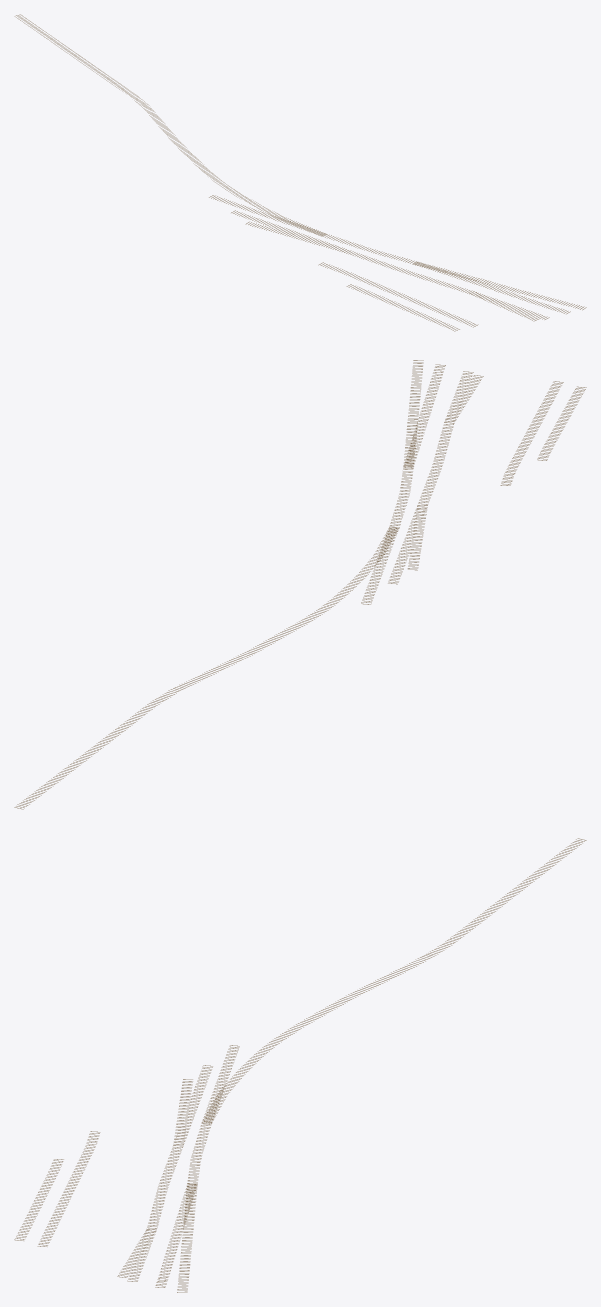
The model's file is c_1632_17825_rail_sleeper.glb.
3 renders of one model, top to bottom at view 1: azimuth 30°, elevation 25°; view 2: azimuth 150°, elevation 25°; view 3: azimuth 330°, elevation 25°, orthographic. The views are drawn at different scales.
Visible parts, largest first — view 1: geometry_0; view 2: geometry_0; view 3: geometry_0.
Boxes of the visible parts, x1=… form: geometry_0: x1=14, y1=14, x2=586, y2=331; geometry_0: x1=14, y1=360, x2=586, y2=809; geometry_0: x1=14, y1=838, x2=586, y2=1292.
Size of the model in its own units: 57.89 by 4.5 by 256.
